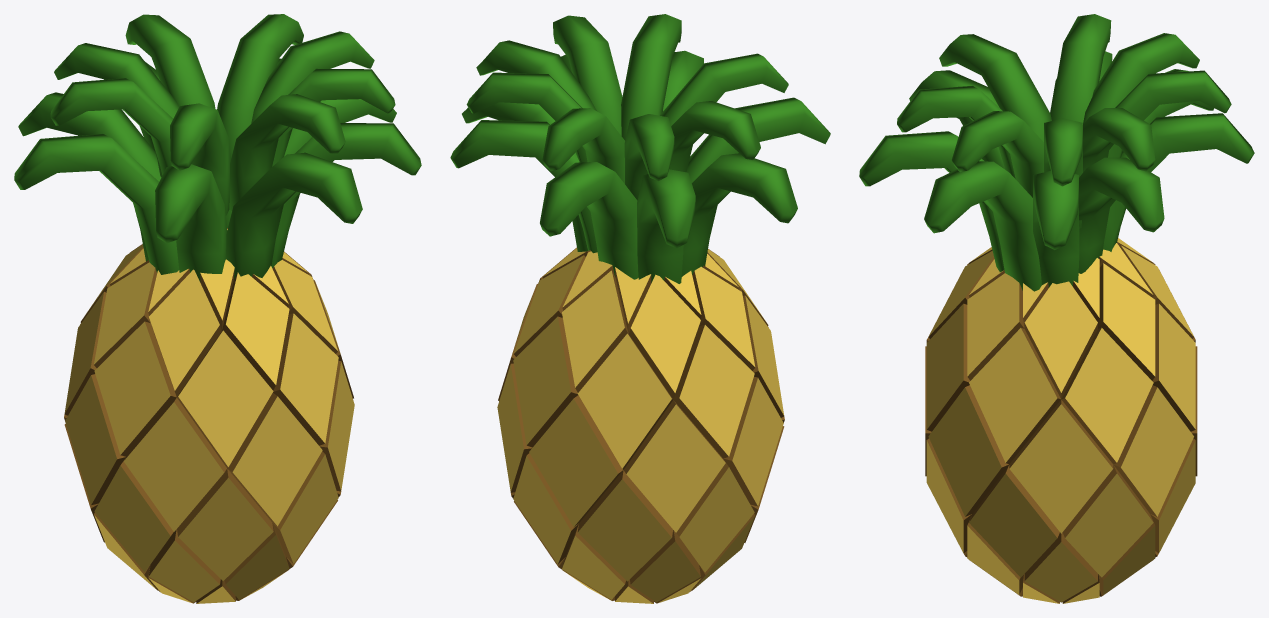
Rendered from Asset_13_pina.fbx.
The picture shows the model from 3 angles, left to right: view 1: azimuth 30°, elevation 25°; view 2: azimuth 150°, elevation 25°; view 3: azimuth 270°, elevation 25°; orthographic projection.
Visible parts, largest first — view 1: Sphere, pelos; view 2: Sphere, pelos; view 3: Sphere, pelos.
Part boxes in pixels (x1,y1,x2,y2): Sphere: [64, 228, 354, 603]; pelos: [14, 14, 421, 281]; Sphere: [497, 247, 784, 603]; pelos: [450, 14, 830, 283]; Sphere: [925, 238, 1197, 603]; pelos: [859, 14, 1254, 291].
Size of the model in its own units: 502 by 706 by 484.
